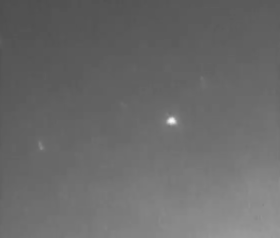Target: (40, 118, 176, 149)
